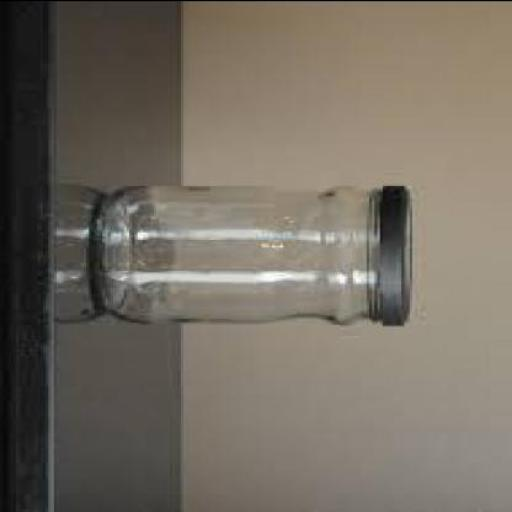glass: (95, 181, 383, 324)
metal: (383, 183, 417, 323)
